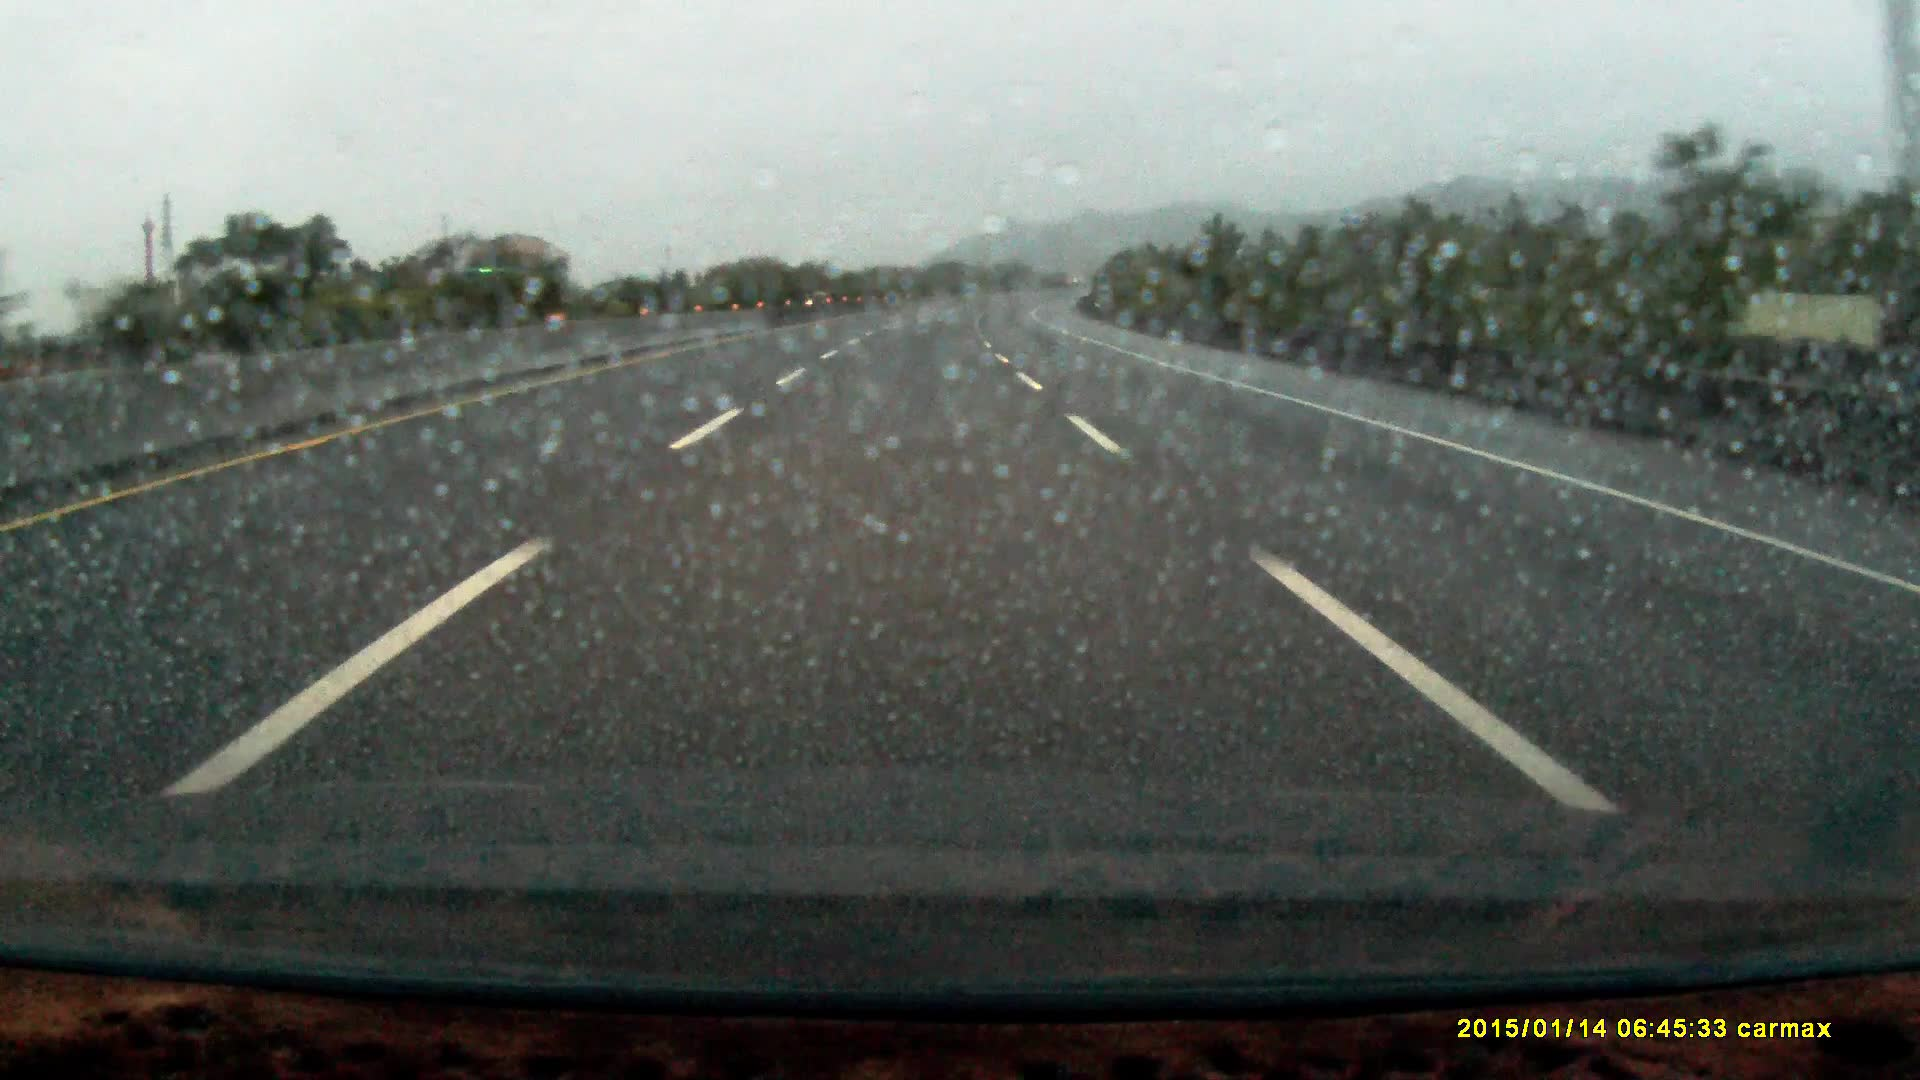vehicle: (458, 229, 574, 324)
